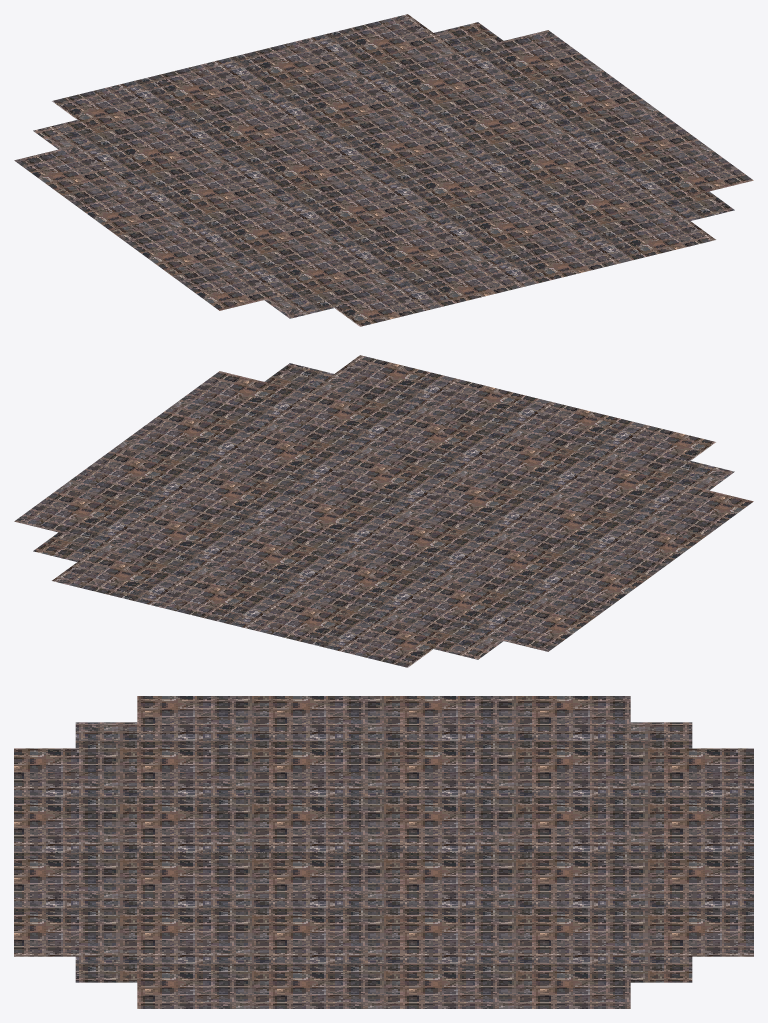
Rendered from fountain_bed.fbx.
3 renders of one model, top to bottom at view 1: azimuth 30°, elevation 25°; view 2: azimuth 150°, elevation 25°; view 3: azimuth 270°, elevation 25°, orthographic. The views are drawn at different scales.
Visible parts, largest first — view 1: mesh_0; view 2: mesh_0; view 3: mesh_0.
Part boxes in pixels (<box>): mesh_0: <box>14,14,753,326</box>; mesh_0: <box>14,355,753,667</box>; mesh_0: <box>14,696,753,1008</box>.
Bounding box in the file's own units: 562 × 0 × 562.
1 material, 1 textured.
